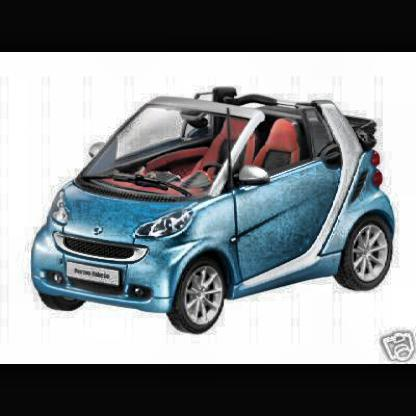smart fortwo Convertible 2012: (31, 88, 397, 336)
